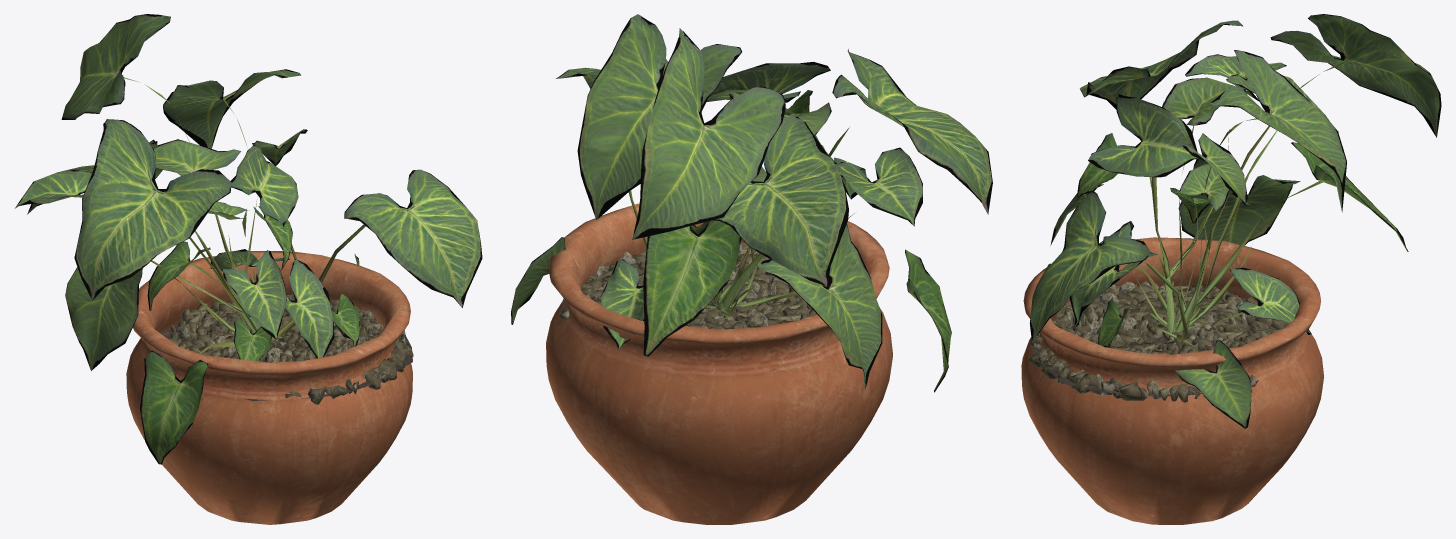
The model's file is snake-plant.glb.
3 renders of one model, left to right at view 1: azimuth 30°, elevation 25°; view 2: azimuth 150°, elevation 25°; view 3: azimuth 270°, elevation 25°, orthographic. The views are drawn at different scales.
Parts seen in each view (by area): view 1: potted_plant_02_leaves, potted_plant_02_pot, potted_plant_02_dirt; view 2: potted_plant_02_leaves, potted_plant_02_pot, potted_plant_02_dirt; view 3: potted_plant_02_leaves, potted_plant_02_pot, potted_plant_02_dirt.
Part boxes in pixels (x1,y1,x2,y2): potted_plant_02_leaves: (15,14,482,464); potted_plant_02_pot: (126,251,412,524); potted_plant_02_dirt: (160,292,413,404); potted_plant_02_leaves: (511,14,992,392); potted_plant_02_pot: (546,203,892,524); potted_plant_02_dirt: (559,242,826,329); potted_plant_02_leaves: (1029,14,1441,428); potted_plant_02_pot: (1021,237,1323,524); potted_plant_02_dirt: (1029,281,1286,402).
Size of the model in its own units: 0.8313 by 0.9393 by 0.778.
Materials: 2 (2 with a texture image).
